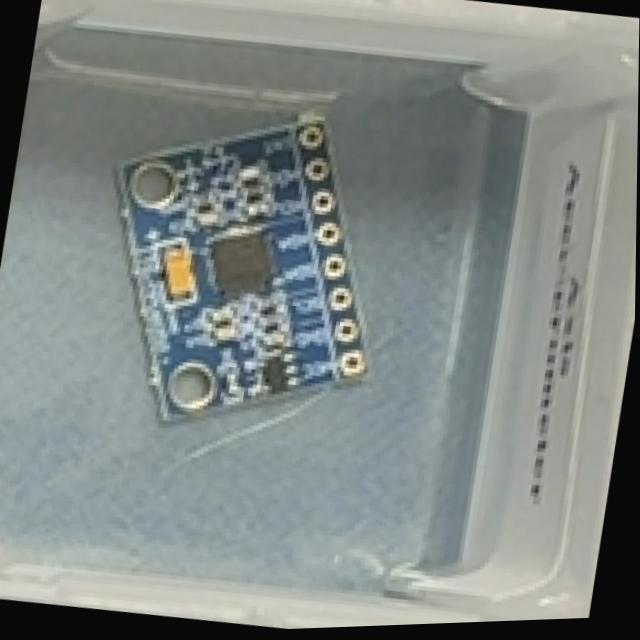Axis Accelerometer: (75, 80, 410, 463)
